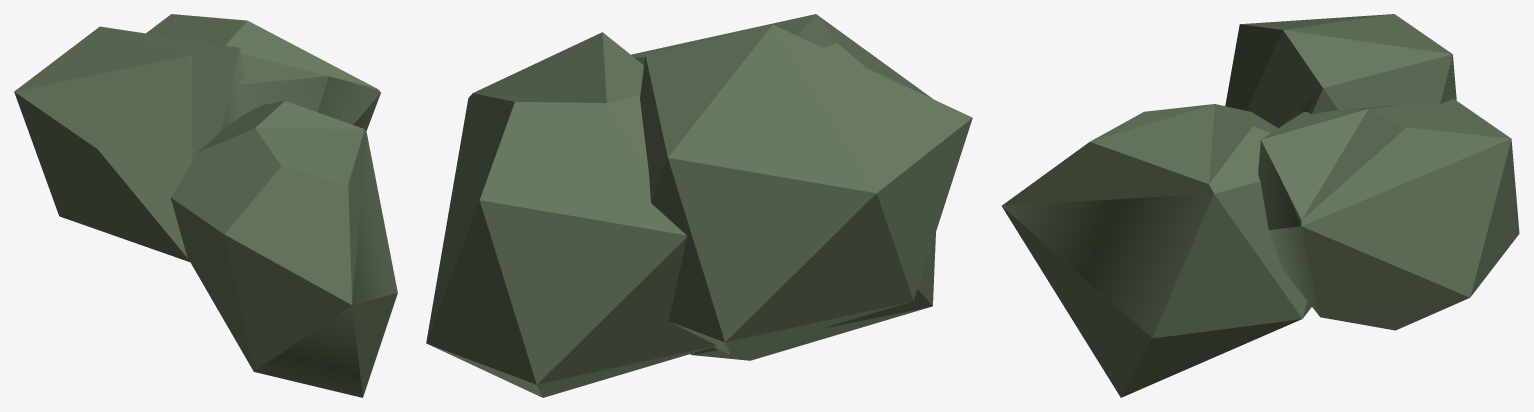
The model's file is Bush_5.fbx.
3 views of the same model, side by side, from view 1: azimuth 30°, elevation 25°; view 2: azimuth 150°, elevation 25°; view 3: azimuth 270°, elevation 25° (orthographic). The views are drawn at different scales.
Parts seen in each view (by area): view 1: Bush24; view 2: Bush24; view 3: Bush24.
Boxes of the visible parts, x1=… form: Bush24: x1=14, y1=14, x2=397, y2=397; Bush24: x1=426, y1=14, x2=972, y2=397; Bush24: x1=1002, y1=14, x2=1519, y2=397.
Bounding box in the file's own units: 186 × 170 × 249.
